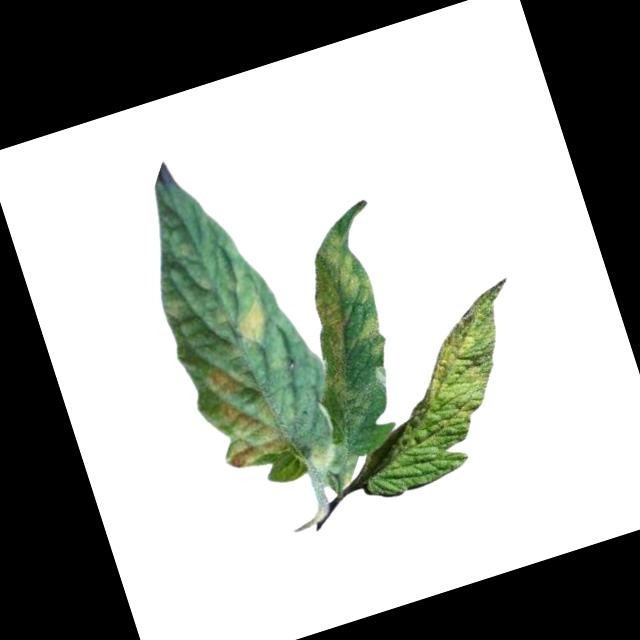Leaf_Mold: (388, 277, 547, 440), (282, 218, 400, 398), (189, 347, 293, 473), (226, 294, 276, 350)
